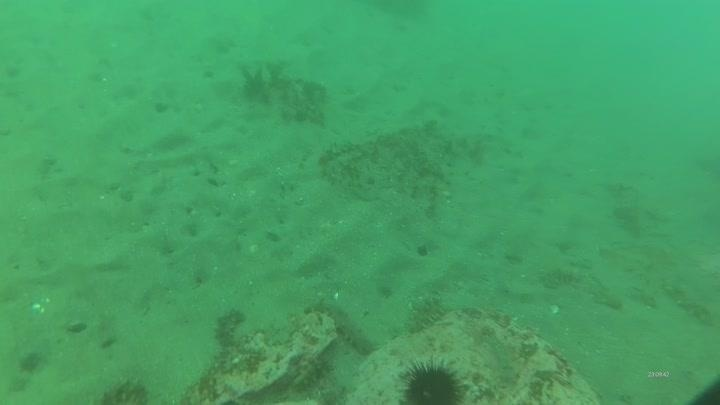echinus: (397, 357, 466, 404)
holothurian: (314, 296, 380, 357), (662, 276, 718, 328), (403, 294, 450, 337), (211, 306, 247, 351), (98, 376, 152, 404), (537, 263, 589, 290)
